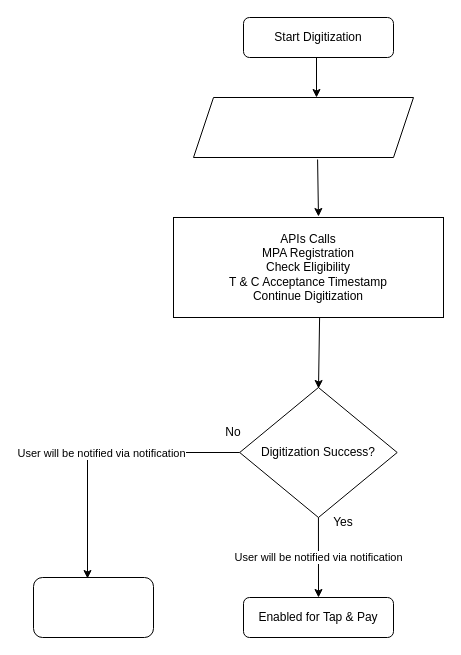
Some shapes in this 461 by 655 pixel diagram are drawn without their labels. The centre of each missing label's shape, as x and y in pixels:
Card Number/Alias/Token: [303,127]
Reason for Failure Retry Option: [93,607]
